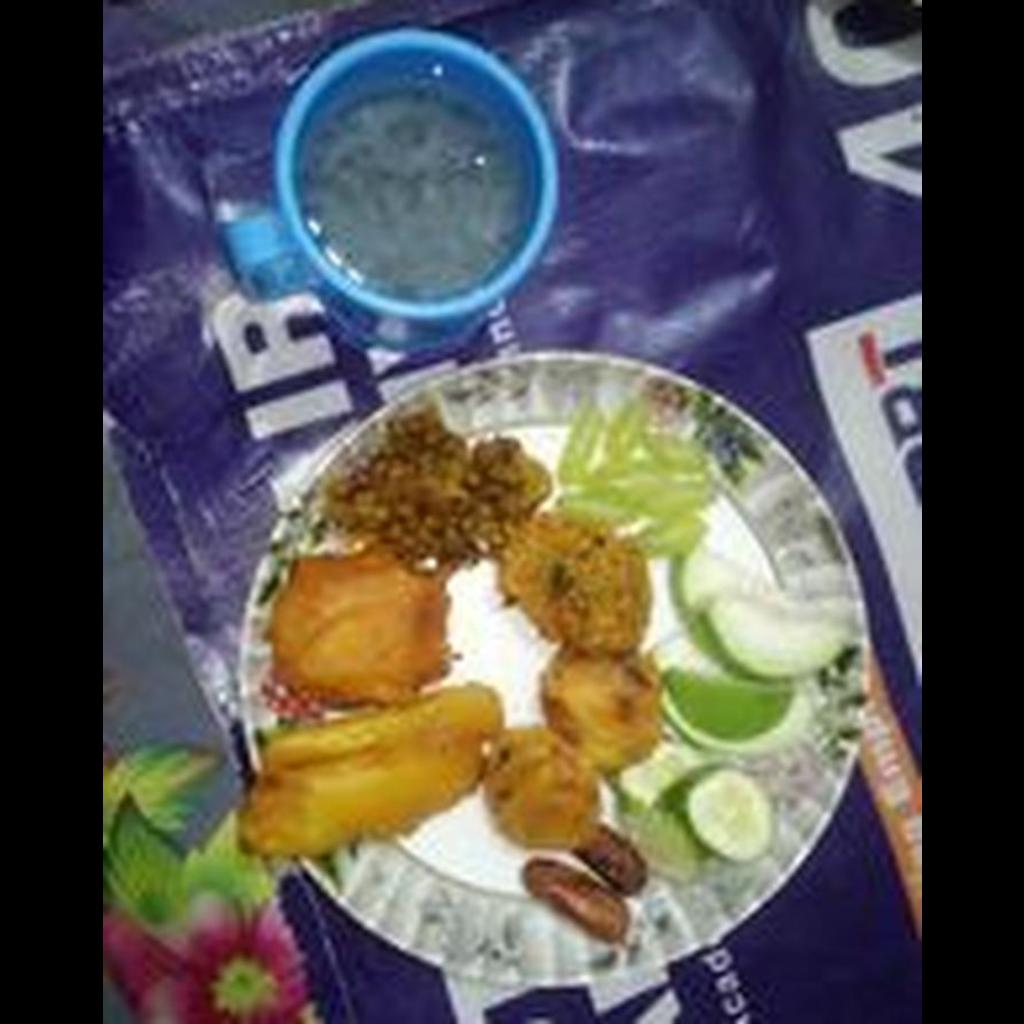beguni: (241, 692, 499, 850)
chola: (319, 403, 549, 567)
chop-alu: (483, 650, 658, 848), (269, 542, 453, 700)
cucumber: (613, 735, 772, 878)
dates: (521, 824, 646, 945)
grapes: (556, 396, 721, 558)
guava: (662, 543, 859, 758)
juice: (298, 66, 530, 302)
peyaju: (488, 510, 648, 674)
